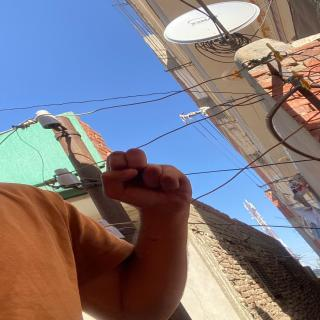QAAF: (84, 136, 214, 221)
